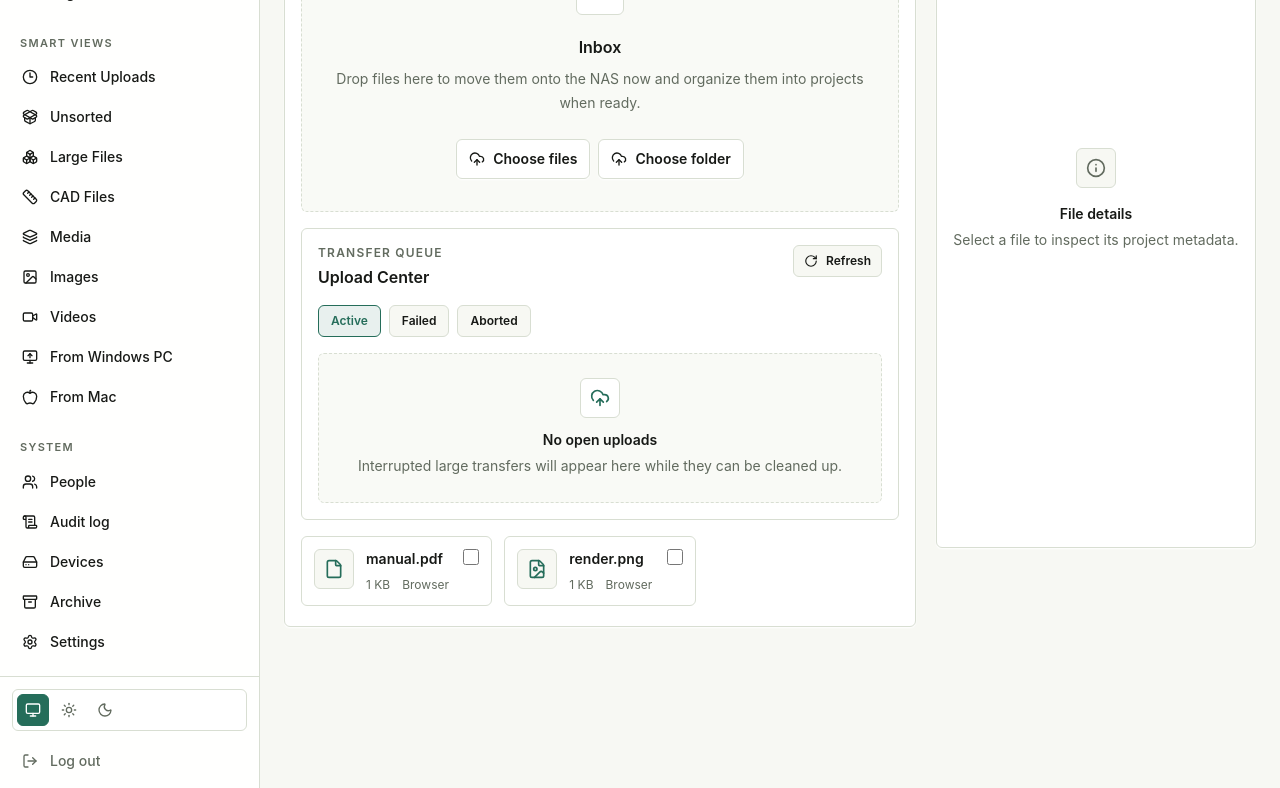
Scenario: AppShell › hides detail actions when the selected file is not in the search results
The width and height of the screenshot is (1280, 788).
(page scrolled)
Click the button "manual.pdf 1 KB Browser".
click(397, 571)  # box [302,537,491,605]
(page scrolled)
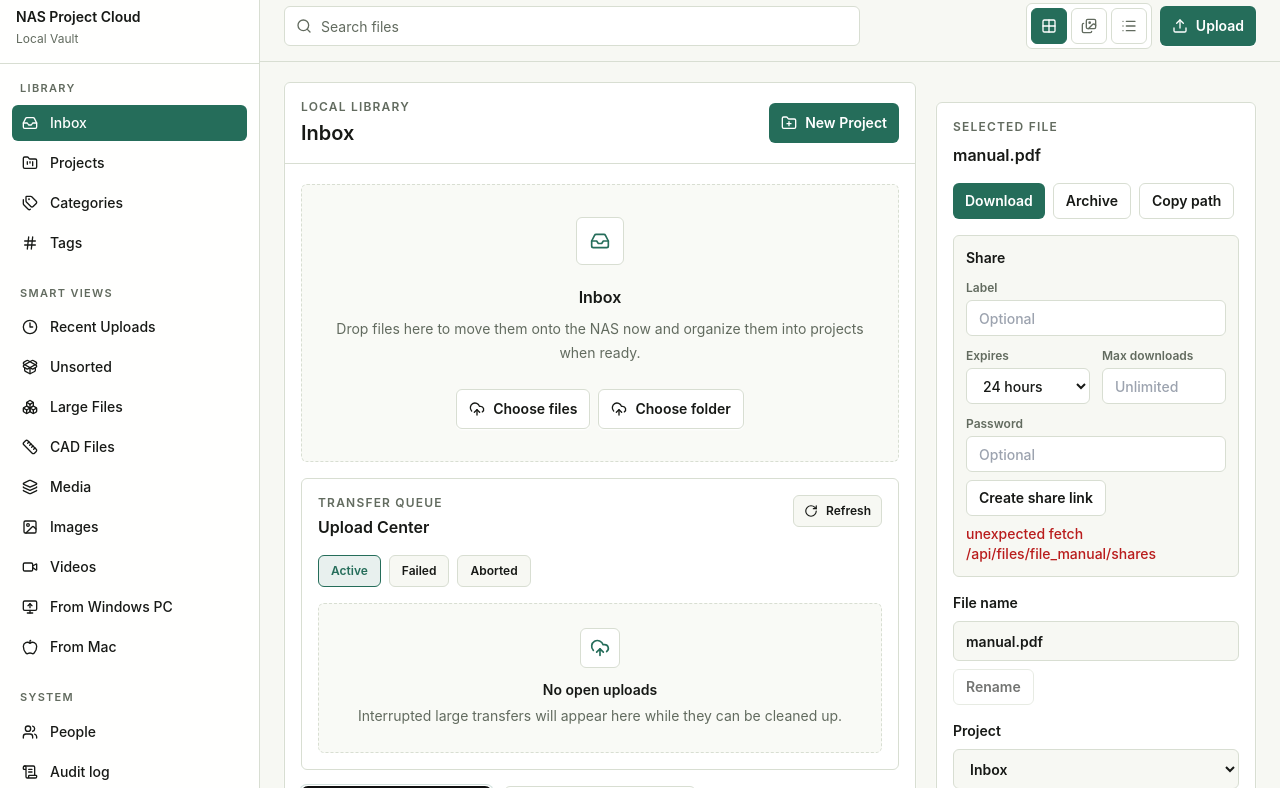
Type "render" into the search field labelled "Search files".
click(572, 26); type("render")  # box [284,6,860,46]
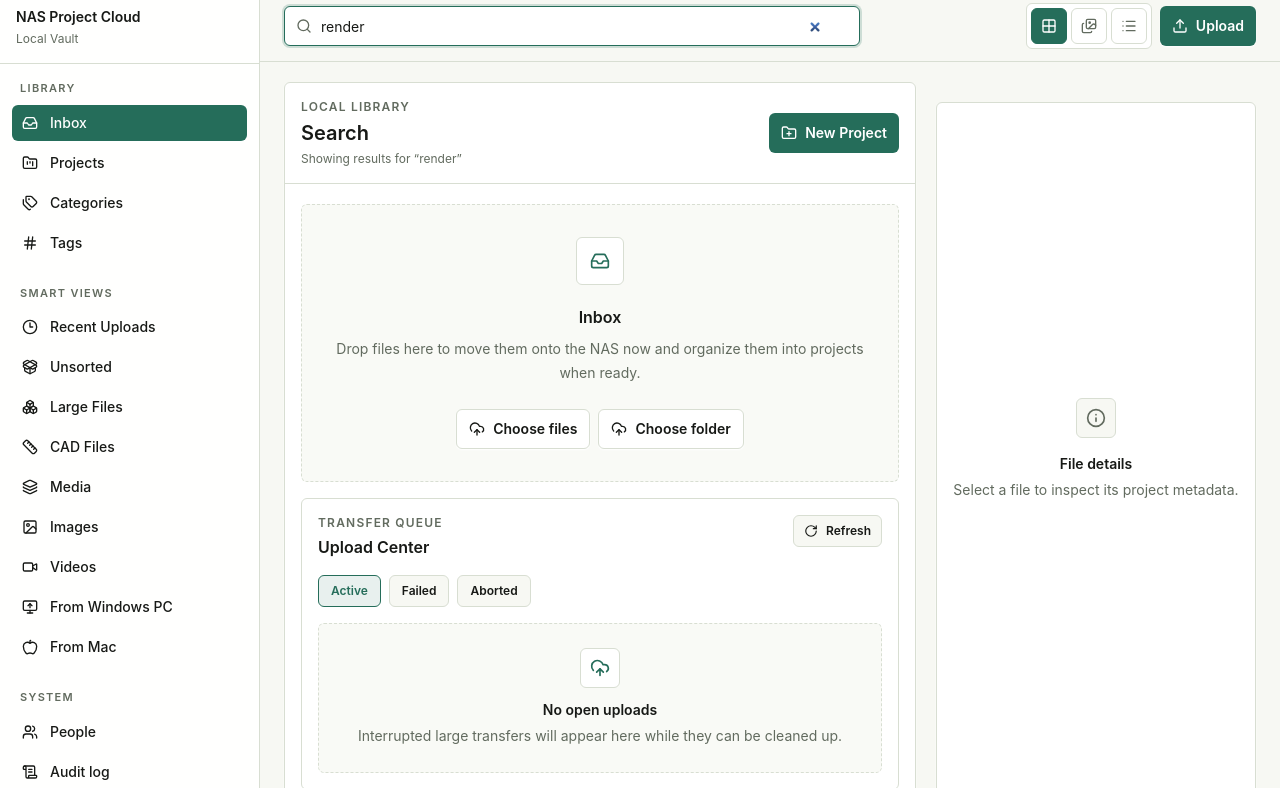
Now the text "Select a file to inspect its project metadata." is shown, box [953,478,1239,502]
Now the link "Download" is gone
